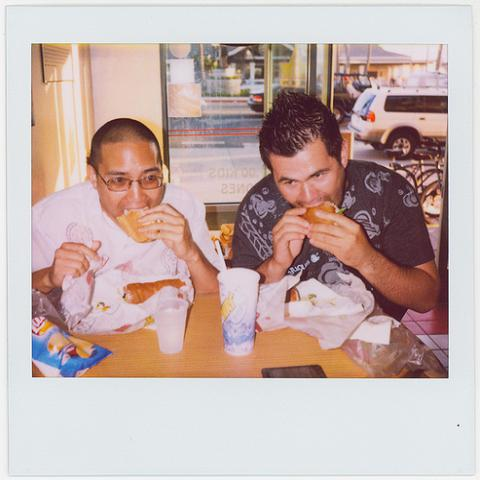car: (344, 87, 448, 162), (247, 82, 356, 124)
